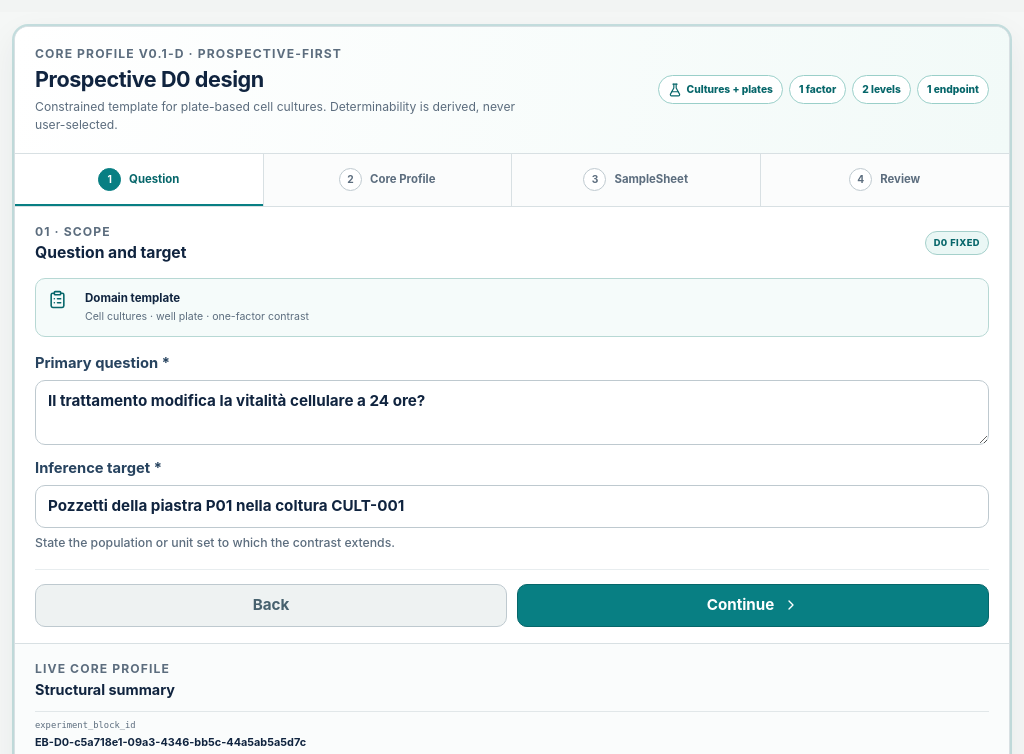
D0 editing usability › leaves unknown provenance, factor assignment and timepoint blank on new rows
The width and height of the screenshot is (1024, 754).
Click the button "3 SampleSheet". click: x=636, y=180
box: x1=512 y1=154 x2=760 y2=206
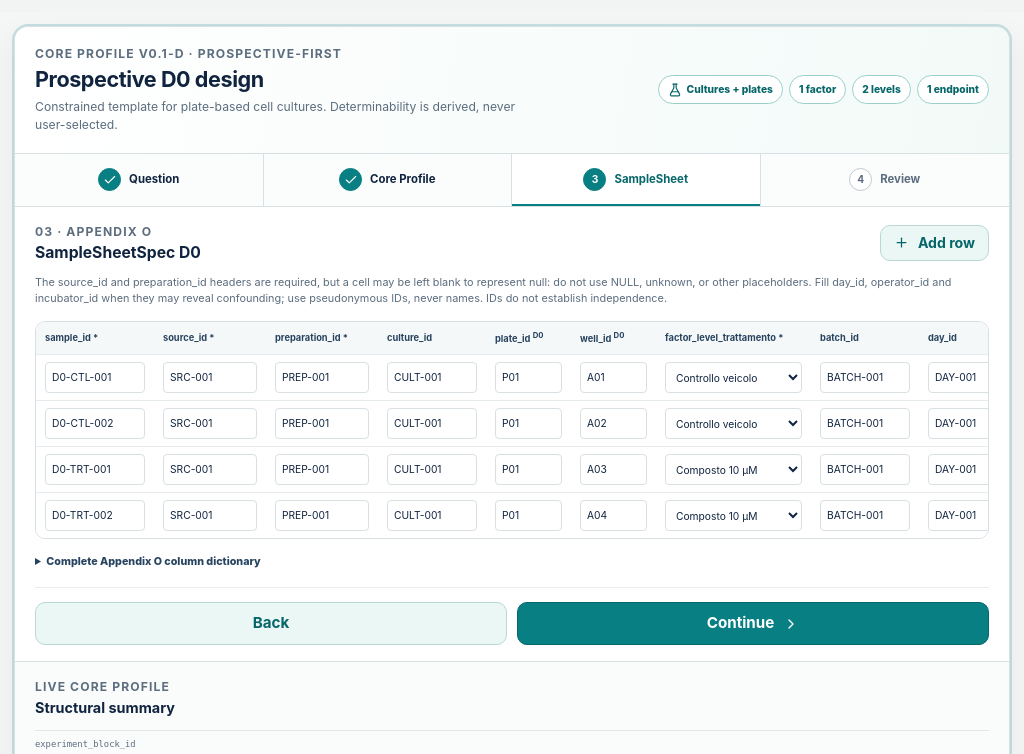
Click the button "Add row". click: x=934, y=243
box: x1=880 y1=225 x2=989 y2=261
(page scrolled)
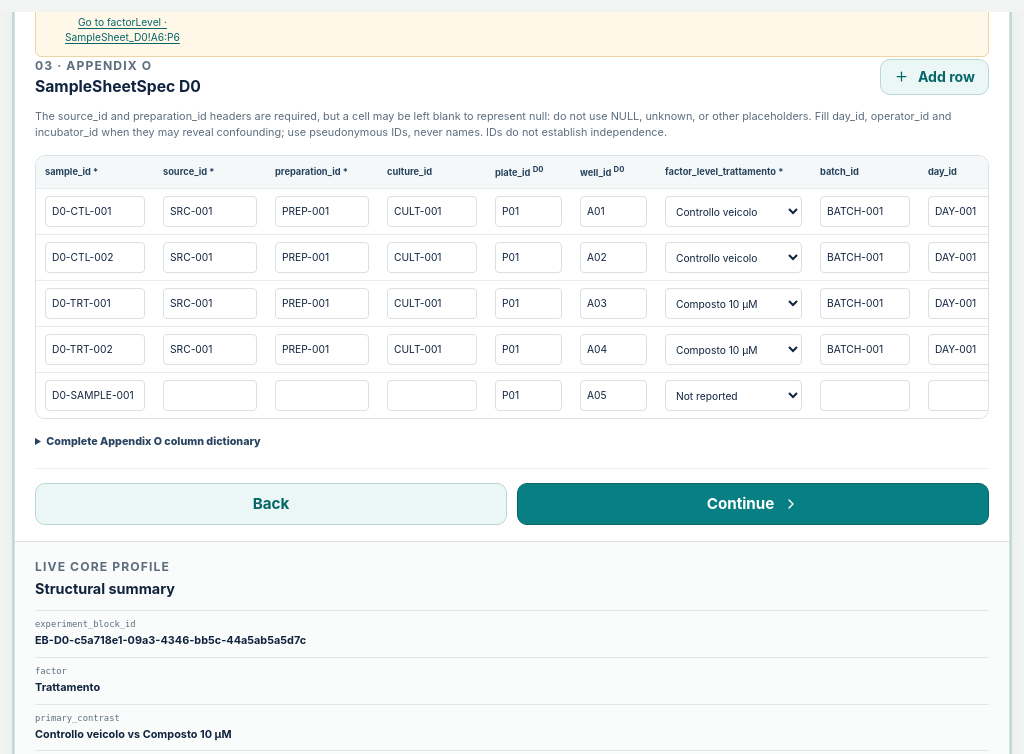
Now the field named "source_id 5" is empty, box x1=163 y1=380 x2=257 y2=412
Now the field named "preparation_id 5" is empty, box x1=275 y1=380 x2=369 y2=412
Now the dropdown named "factor_level_trattamento 5" shows "Not reported", box x1=665 y1=380 x2=802 y2=412
